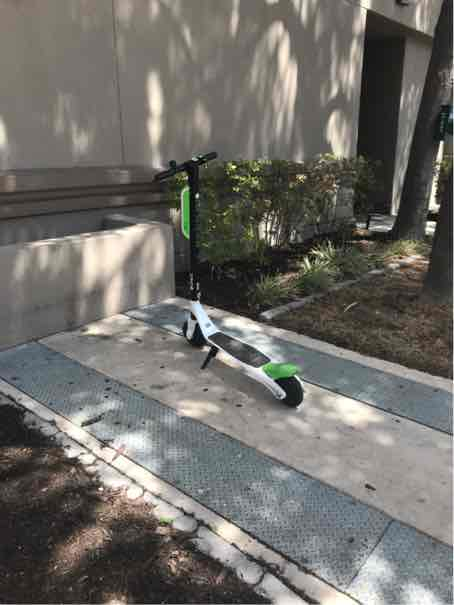scooter: (137, 141, 307, 428)
